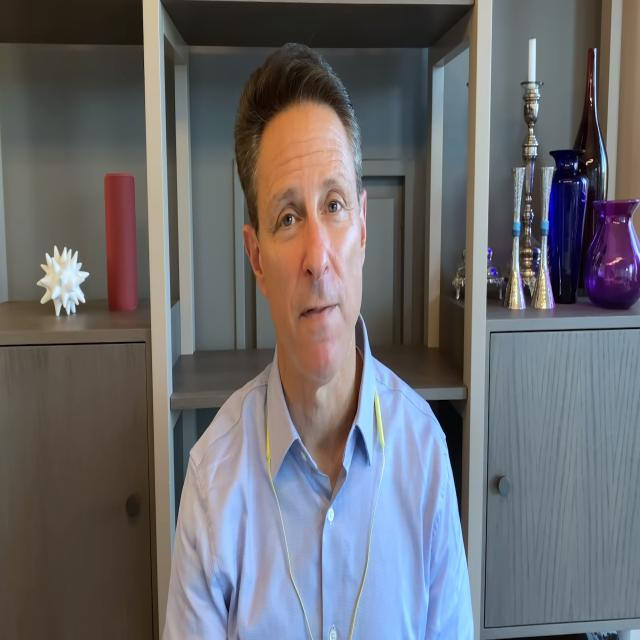Neckband: (264, 362, 386, 640)
